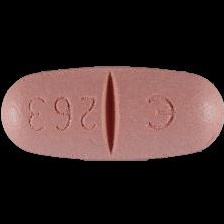62856-583: (0, 0, 224, 224)
